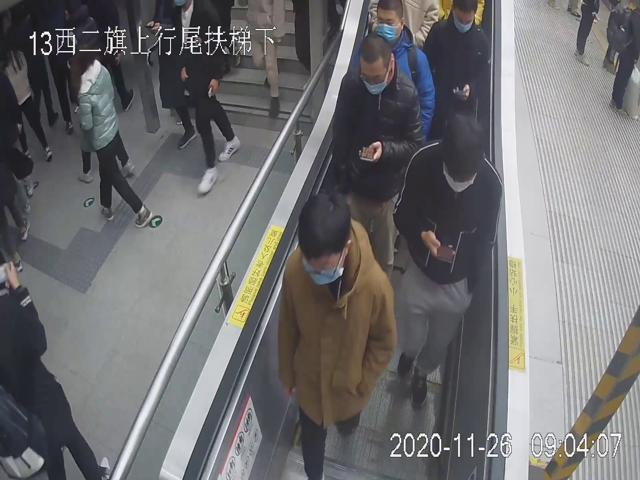person: (277, 191, 395, 480), (394, 110, 502, 408), (332, 36, 420, 273), (66, 31, 153, 228), (366, 0, 436, 143), (424, 0, 493, 131)
